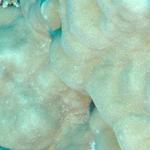alive: (8, 3, 147, 144)
